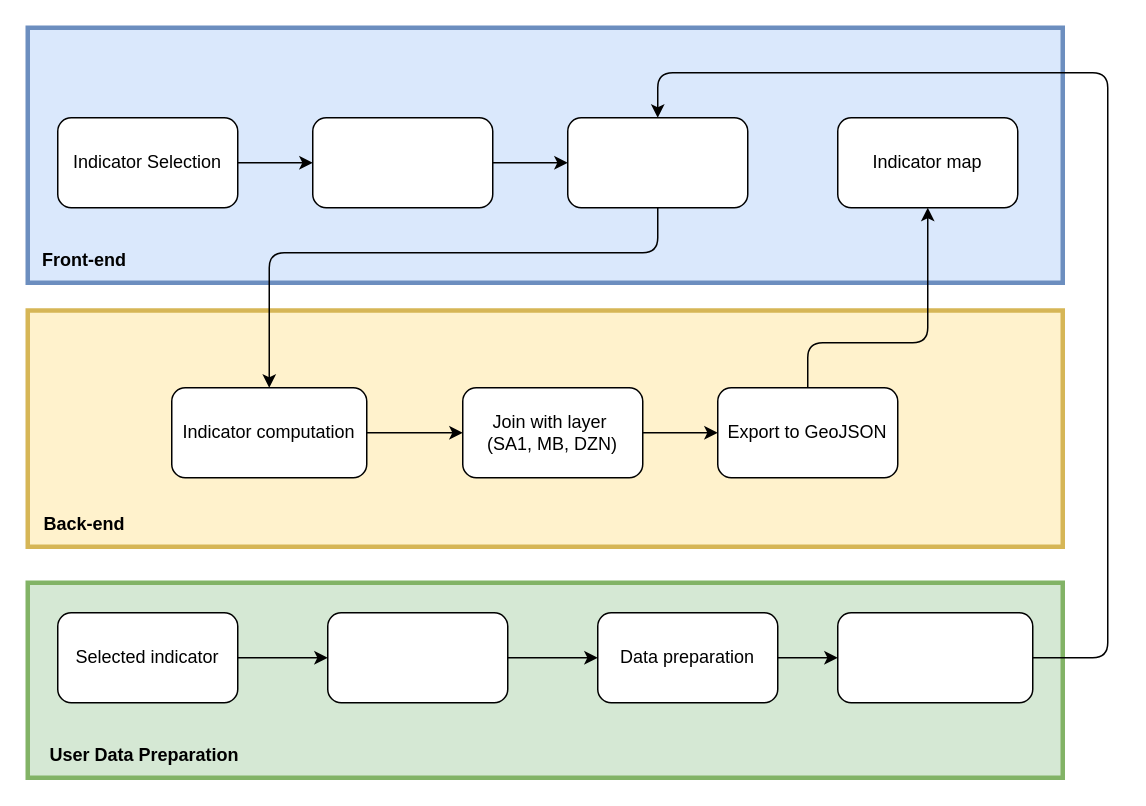
The diagram is 1146 pixels wide and 806 high, and some of its shapes have lost their labels. Each missing label, with the centre of its shape:
"Data collection" belongs at [417,657].
"Export file (e.g, CSV, Shapefiles)" belongs at [934,657].
"Spatial scale selection" belongs at [402,162].
"Upload file" belongs at [657,162].
